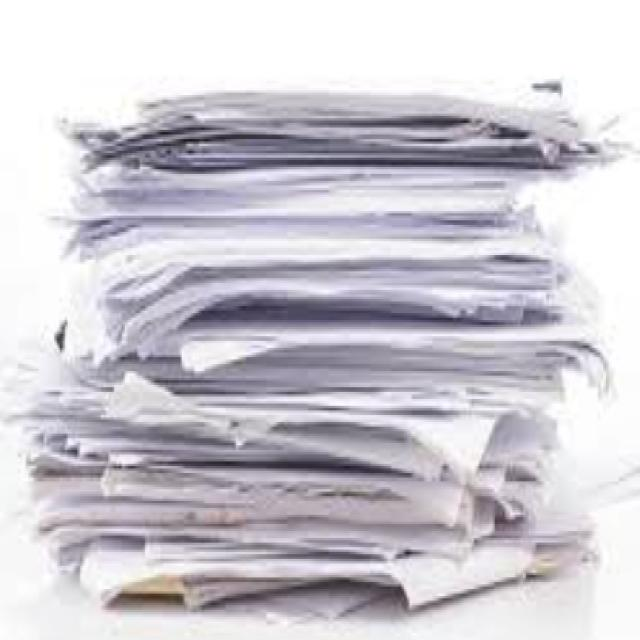KertasBekas: (11, 74, 638, 619)
